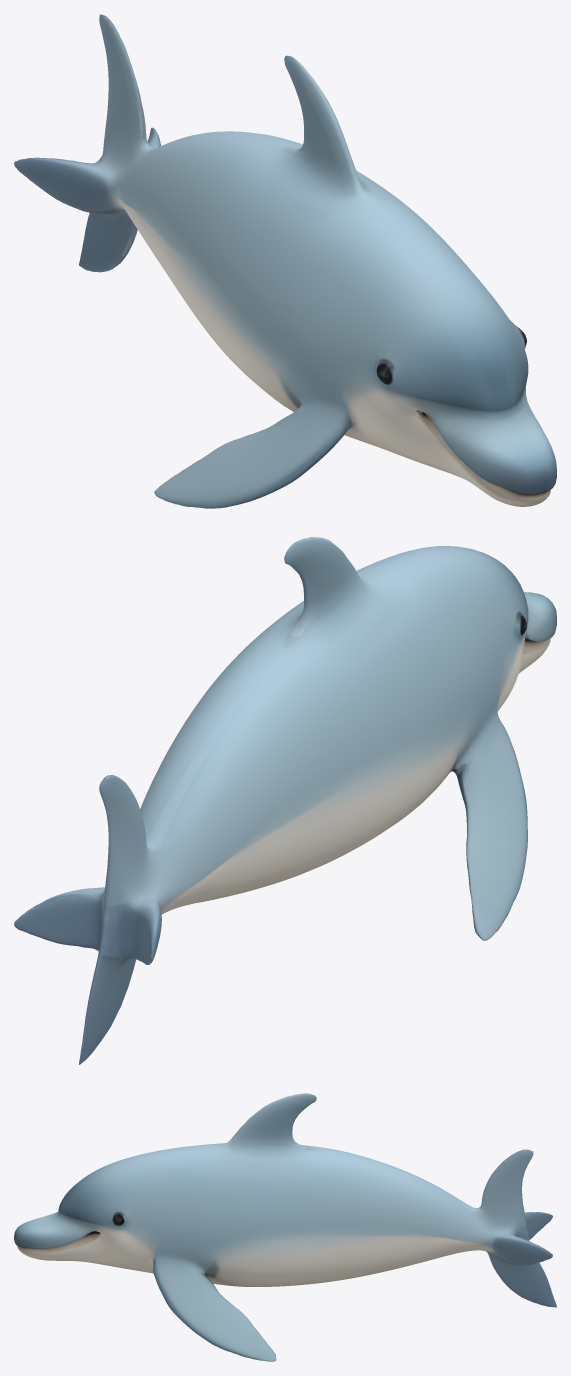
Rendered from irrawaddyDolphin.glb.
3 renders of one model, top to bottom at view 1: azimuth 30°, elevation 25°; view 2: azimuth 150°, elevation 25°; view 3: azimuth 270°, elevation 25°, orthographic. The views are drawn at different scales.
Visible parts, largest first — view 1: model; view 2: model; view 3: model.
Boxes of the visible parts, <box> form: model: <box>14,14,556,508</box>; model: <box>14,537,556,1064</box>; model: <box>14,1093,556,1361</box>.
Size of the model in its own units: 0.7912 by 0.8533 by 1.9.
1 material, 1 textured.
